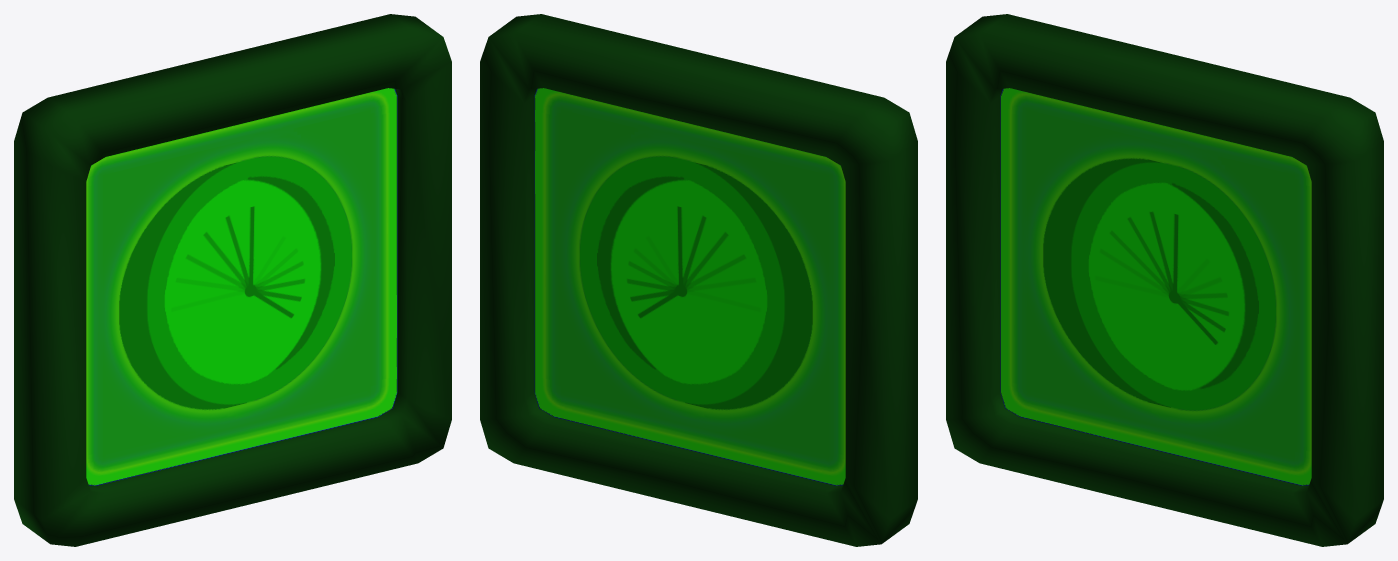
Rendered from GreenPowerUp.FBX.
The picture shows the model from 3 angles, left to right: view 1: azimuth 30°, elevation 25°; view 2: azimuth 150°, elevation 25°; view 3: azimuth 330°, elevation 25°; orthographic projection.
Visible parts, largest first — view 1: TimeWarp; view 2: TimeWarp; view 3: TimeWarp.
Boxes of the visible parts, left/top/right/bottom form: TimeWarp: left=14, top=14, right=451, bottom=546; TimeWarp: left=480, top=14, right=917, bottom=546; TimeWarp: left=946, top=14, right=1383, bottom=546.
Bounding box in the file's own units: 8.62 × 8.62 × 1.02.
